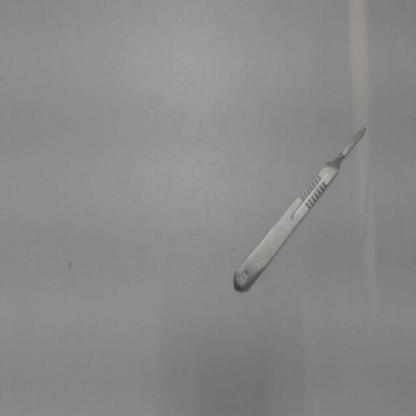No.4 BP Handle: (227, 116, 372, 302)
